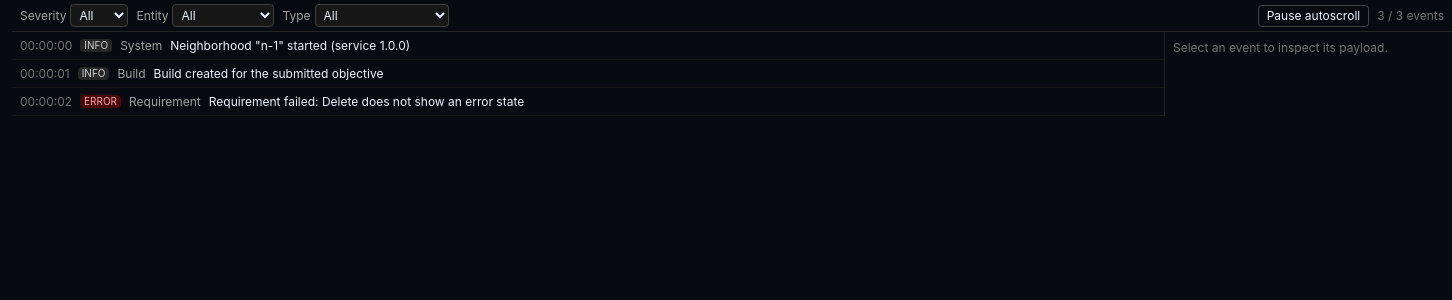
Test: EventTimeline — payload inspection › selecting a row shows its full payload and description in the detail panel
The image size is (1452, 300).
Click the button with test id "timeline-row" at (45, 73), box [12,60,1164,88]
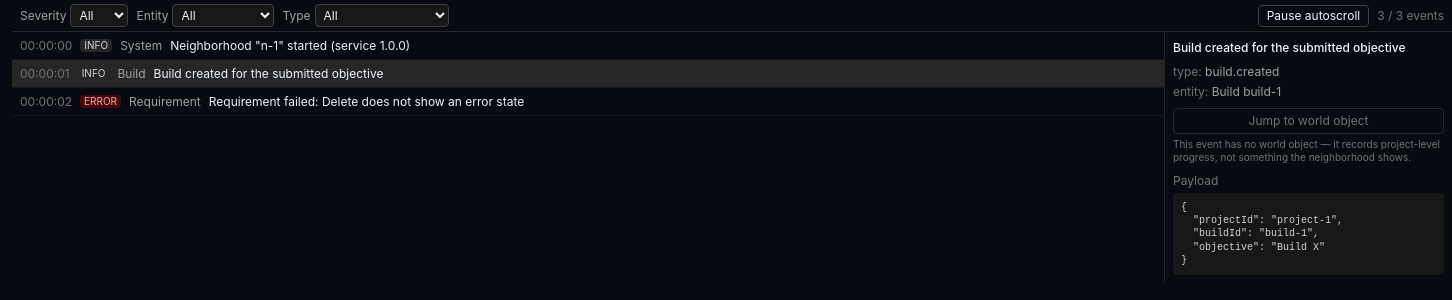
Check: the heading "Build created for the submitted objective" is shown, box [1173,40,1444,56]
Check: the text "\"buildId\": \"build-1\"" is shown, box [1181,202,1343,266]
